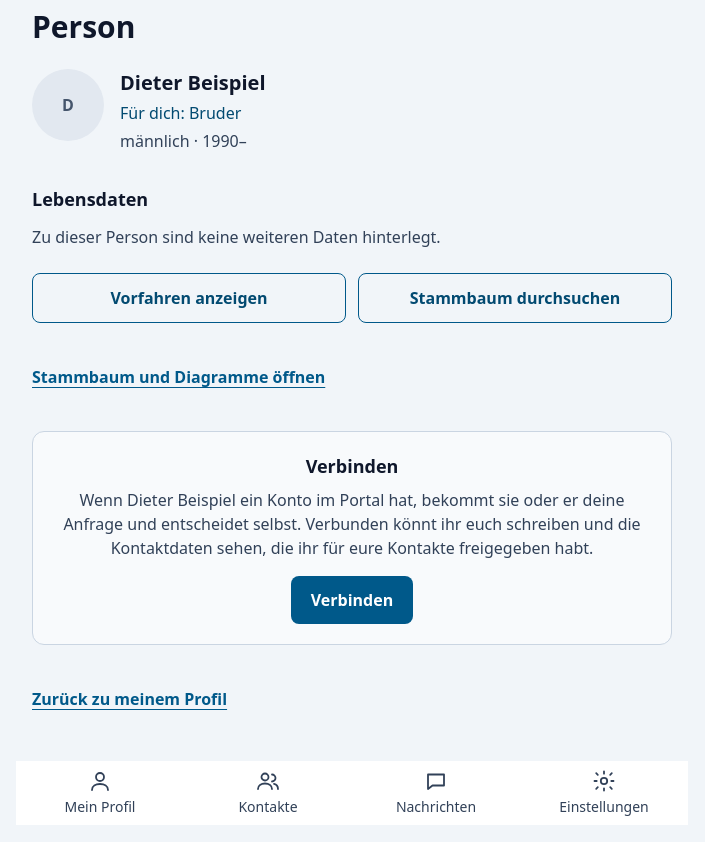
connecting from a person’s page › says only that the request would be on its way, where no name comes back
Click the button "Verbinden".
click(352, 600)  # box left=291, top=576, right=413, bottom=624
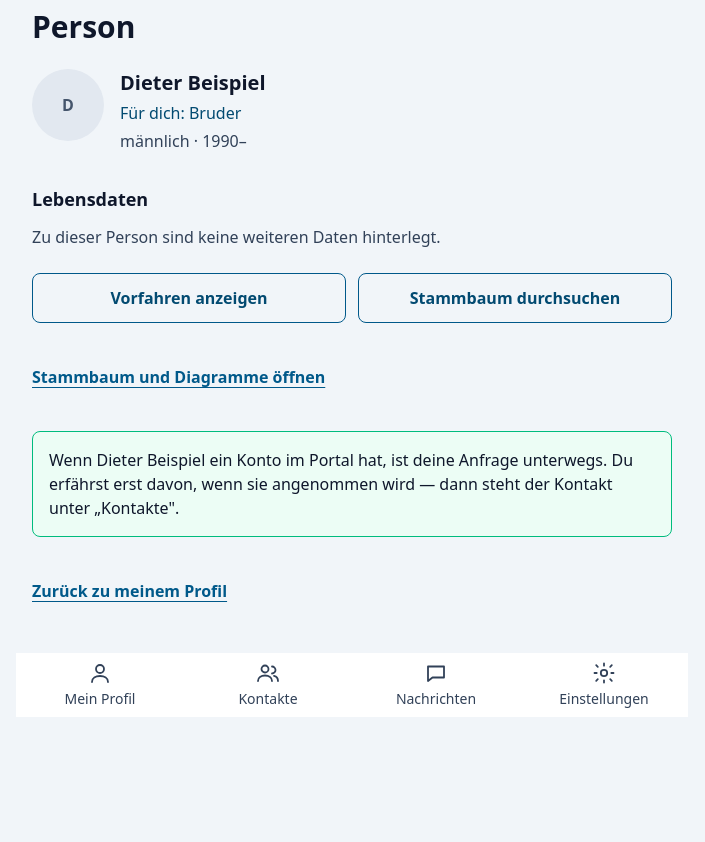
Expected: the text "Wenn Dieter Beispiel ein Konto im Portal hat" is shown, left=49, top=449, right=633, bottom=519
